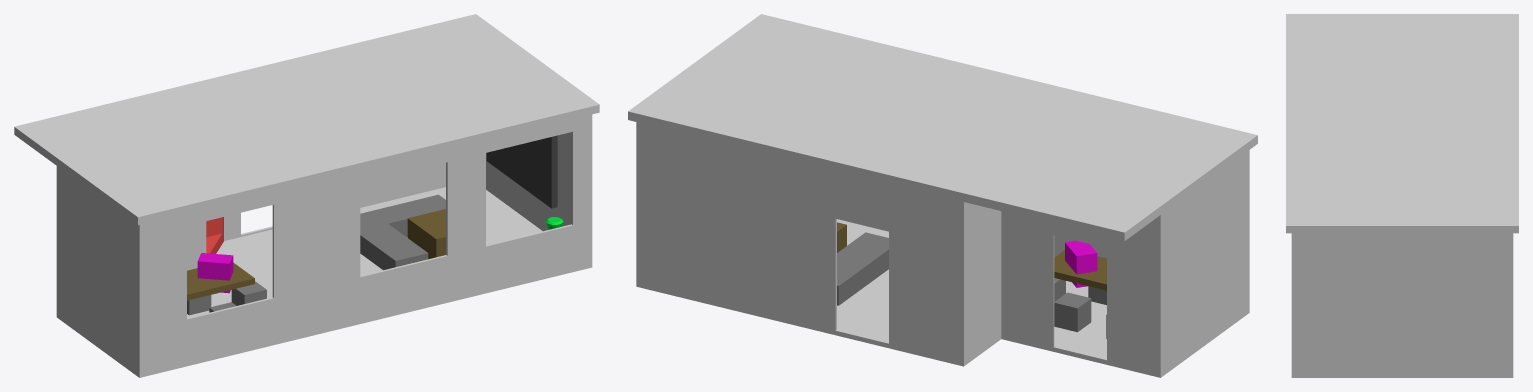
Rendered from MediumRoom2.fbx.
3 renders of one model, left to right at view 1: azimuth 30°, elevation 25°; view 2: azimuth 150°, elevation 25°; view 3: azimuth 270°, elevation 25°, orthographic. The views are drawn at different scales.
Visible parts, largest first — view 1: Room.001, Roof, Cube.010, Cube.007, Cube.009, Table.001, Cube.008, Chair.002, Kamin; view 2: Room.001, Roof, Cube.010, Chair.001, Table.001, Cube.008; view 3: Roof, Room.001.
Boxes of the visible parts, x1,y1,x2,y2 form: Room.001: (56,114,592,377); Roof: (14,14,599,225); Cube.010: (360,194,445,270); Cube.007: (486,135,557,208); Cube.009: (407,209,445,259); Table.001: (187,262,254,300); Cube.008: (197,253,233,293); Chair.002: (231,281,266,305); Kamin: (206,217,223,253); Room.001: (636,122,1249,377); Roof: (628,14,1257,241); Cube.010: (837,232,888,305); Chair.001: (1054,292,1091,332); Table.001: (1054,250,1106,290); Cube.008: (1065,240,1097,287); Roof: (1286,14,1518,233); Room.001: (1291,233,1513,377).
Size of the model in its own units: 1857 by 721 by 862.
